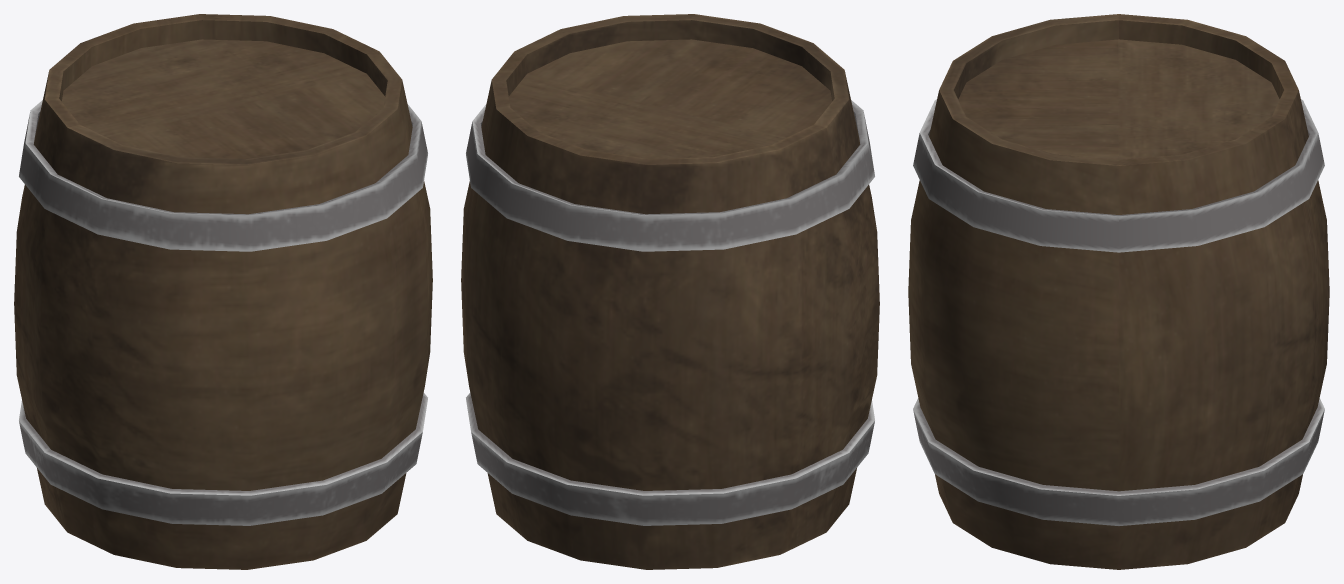
Rendered from barrel.glb.
3 views of the same model, side by side, from view 1: azimuth 30°, elevation 25°; view 2: azimuth 150°, elevation 25°; view 3: azimuth 270°, elevation 25° (orthographic).
Visible parts, largest first — view 1: barrel; view 2: barrel; view 3: barrel.
Boxes of the visible parts, x1,y1,x2,y2 form: barrel: [14, 14, 432, 569]; barrel: [461, 14, 879, 569]; barrel: [908, 14, 1329, 569].
Bounding box in the file's own units: 0.3466 × 0.3665 × 0.3466.
Materials: 1 (1 with a texture image).
